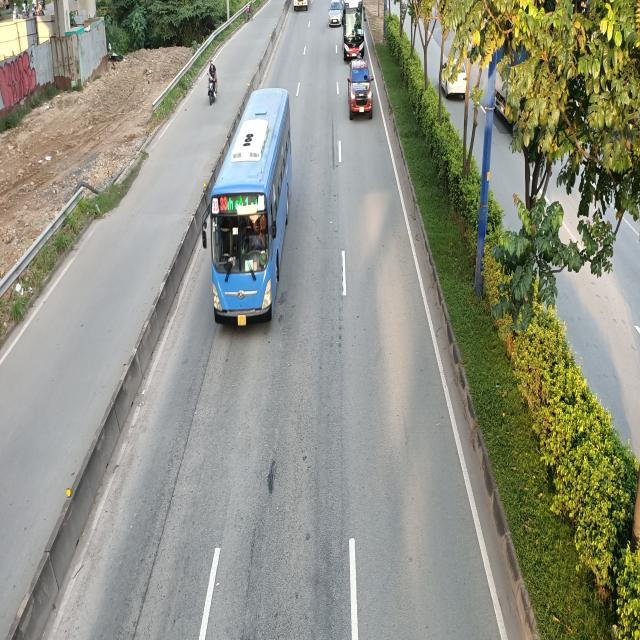car: (347, 62, 375, 120), (329, 0, 344, 27)
coach: (204, 92, 295, 330), (342, 0, 365, 65)
